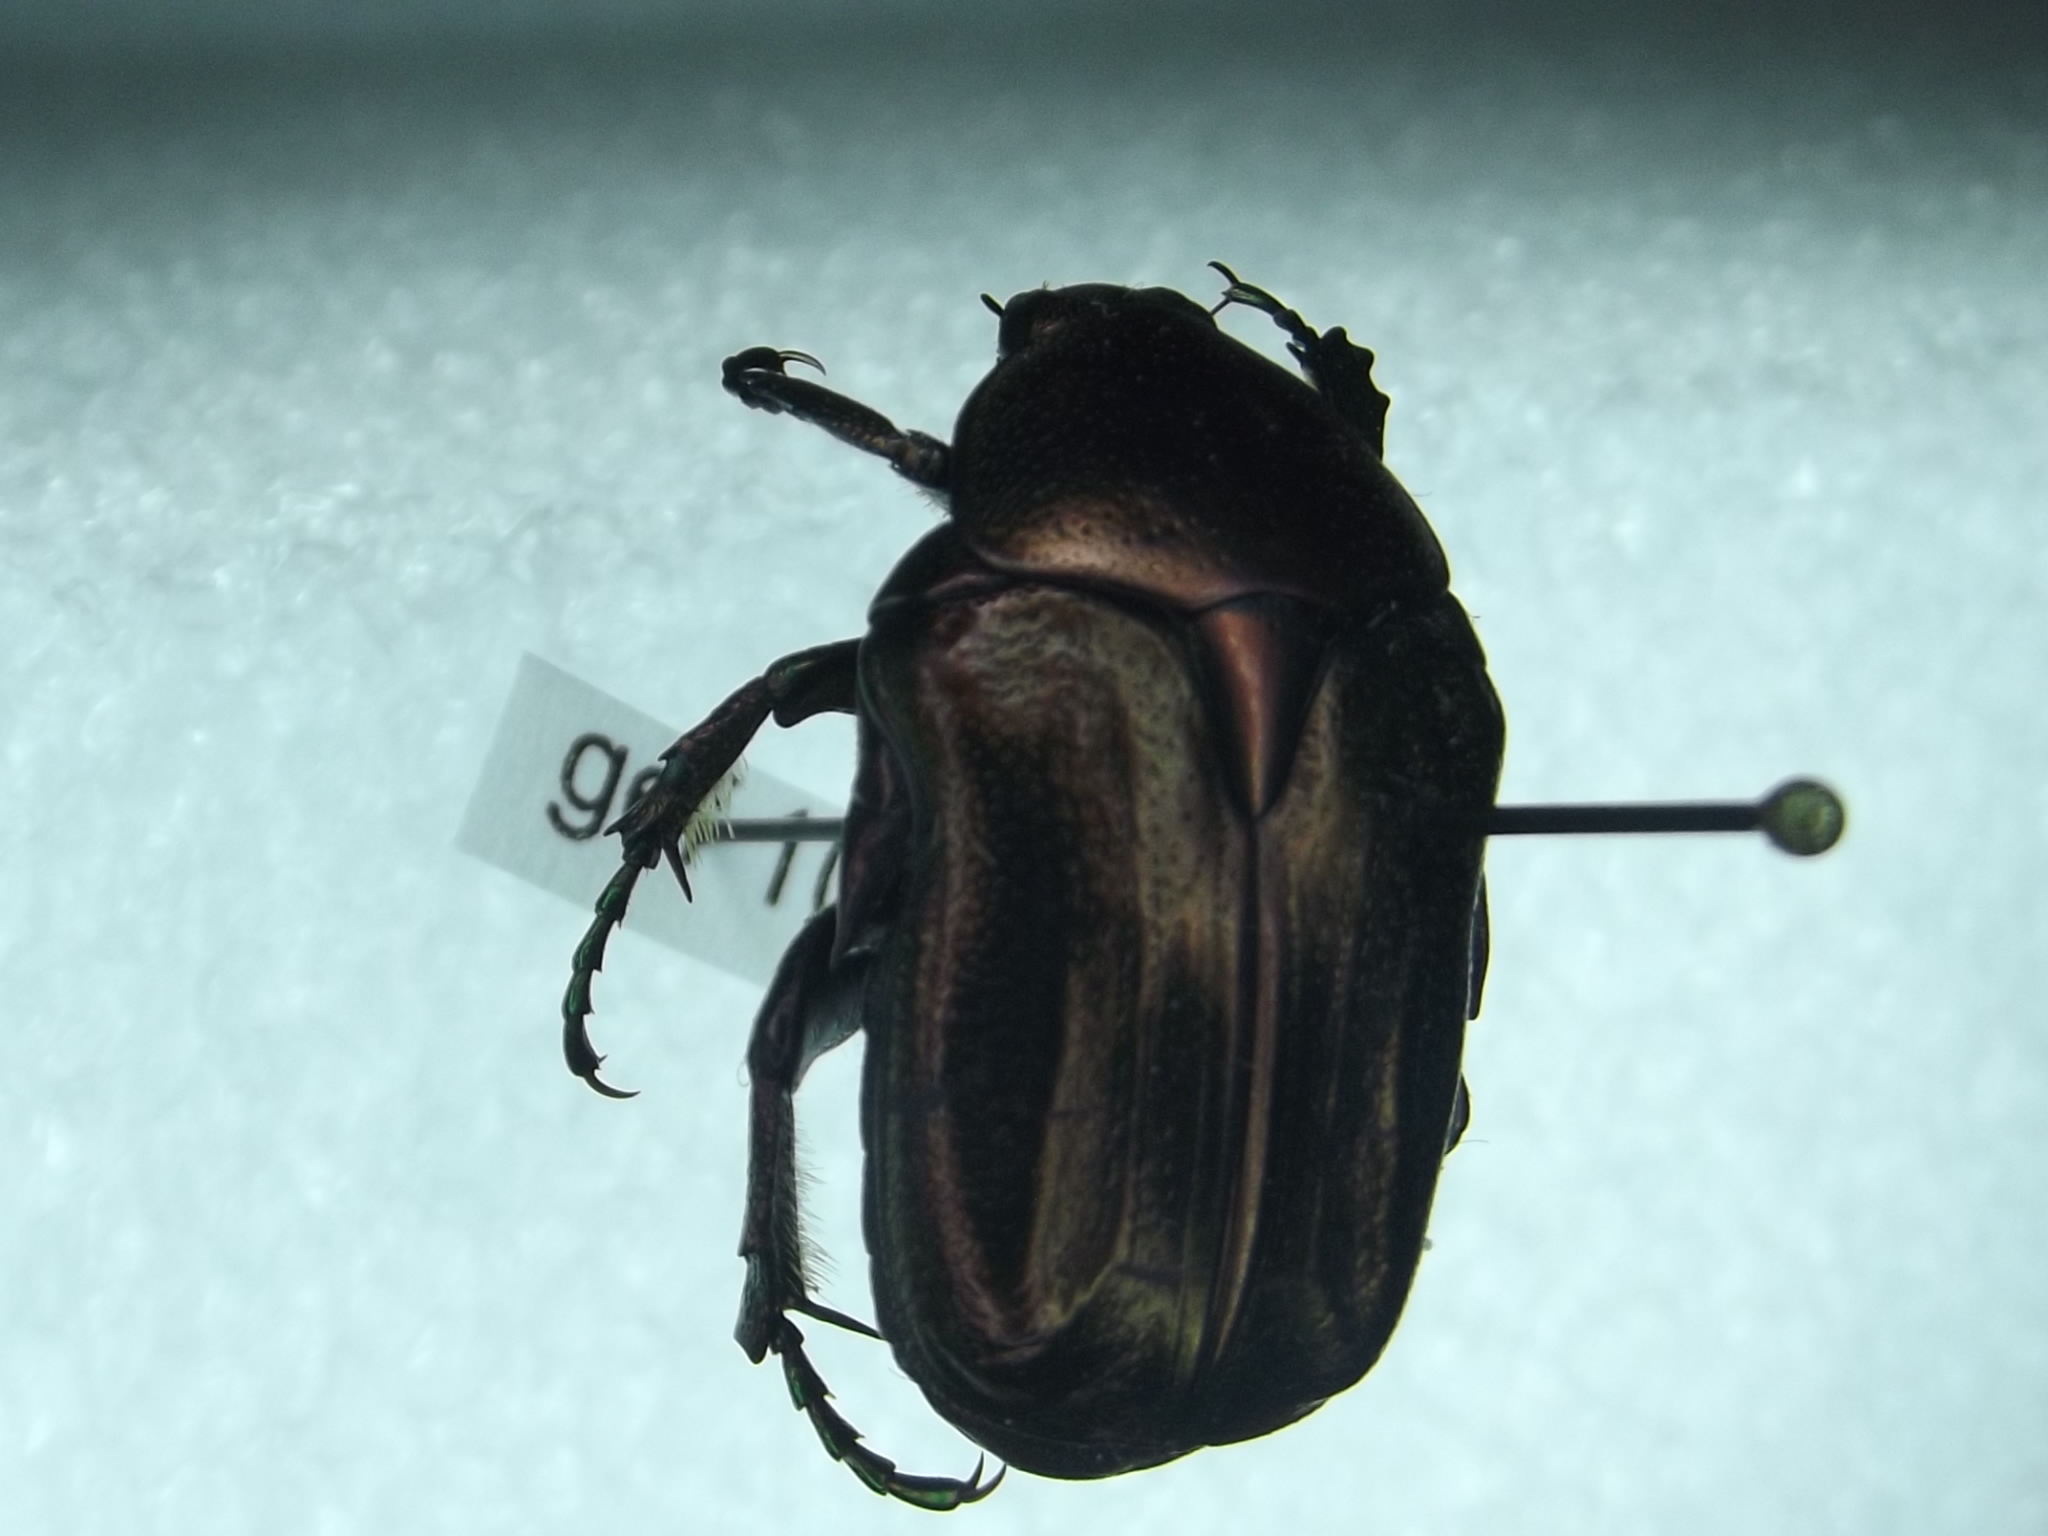Cetonia_aurata: (556, 179, 1558, 1515)
